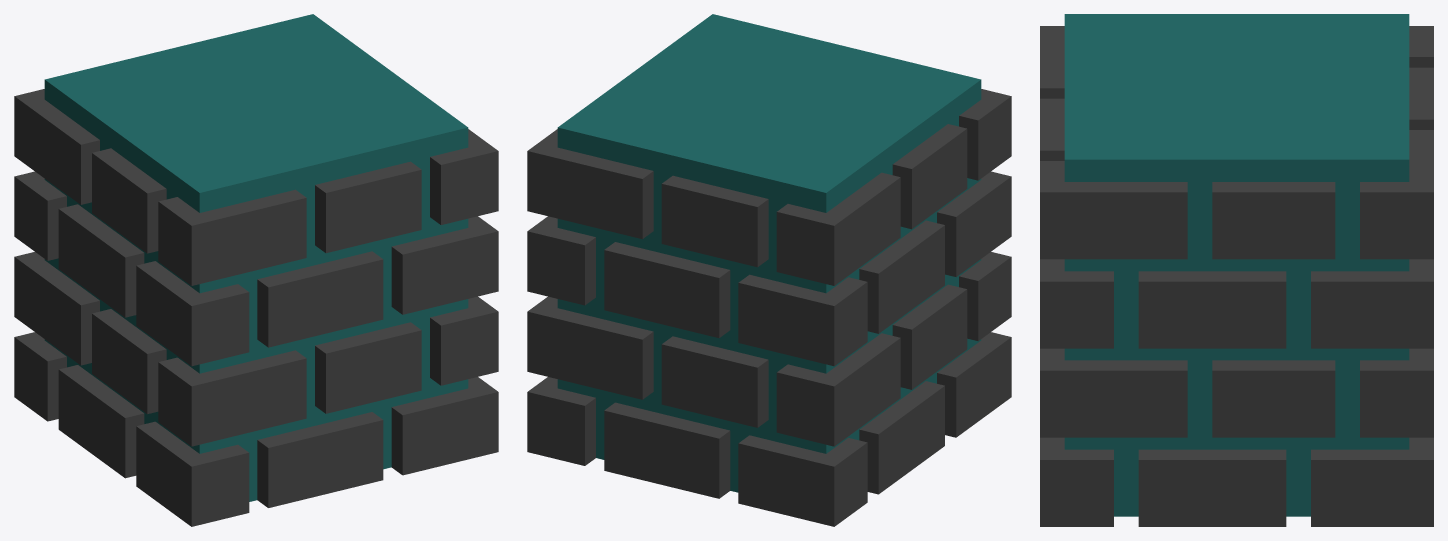
Rendered from fence_cube.gltf.
3 renders of one model, left to right at view 1: azimuth 30°, elevation 25°; view 2: azimuth 150°, elevation 25°; view 3: azimuth 270°, elevation 25°, orthographic. The views are drawn at different scales.
Parts seen in each view (by area): view 1: Content (62)-Mesh; view 2: Content (62)-Mesh; view 3: Content (62)-Mesh.
Part boxes in pixels (bbox=[...]): Content (62)-Mesh: bbox=[14, 14, 498, 526]; Content (62)-Mesh: bbox=[527, 14, 1011, 526]; Content (62)-Mesh: bbox=[1040, 14, 1433, 526].
Size of the model in its own units: 16 by 16 by 16.
Materials: 1 (1 with a texture image).
